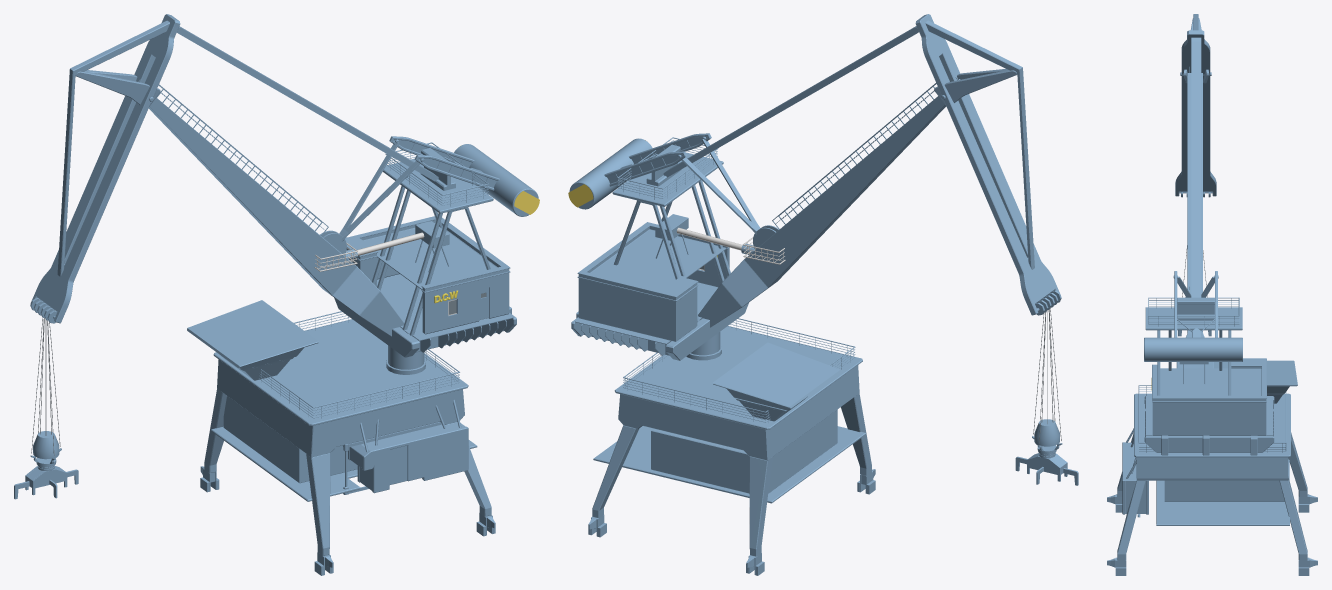
The model's file is tower_crane.gltf.
3 renders of one model, left to right at view 1: azimuth 30°, elevation 25°; view 2: azimuth 150°, elevation 25°; view 3: azimuth 270°, elevation 25°, orthographic. The views are drawn at different scales.
Parts seen in each view (by area): view 1: 龙门吊04; view 2: 龙门吊04; view 3: 龙门吊04.
Part boxes in pixels (left/top/right/bottom): 龙门吊04: left=14, top=14, right=539, bottom=575; 龙门吊04: left=568, top=14, right=1078, bottom=575; 龙门吊04: left=1107, top=14, right=1317, bottom=575.
Bounding box in the file's own units: 27.87 × 29.51 × 12.87.
